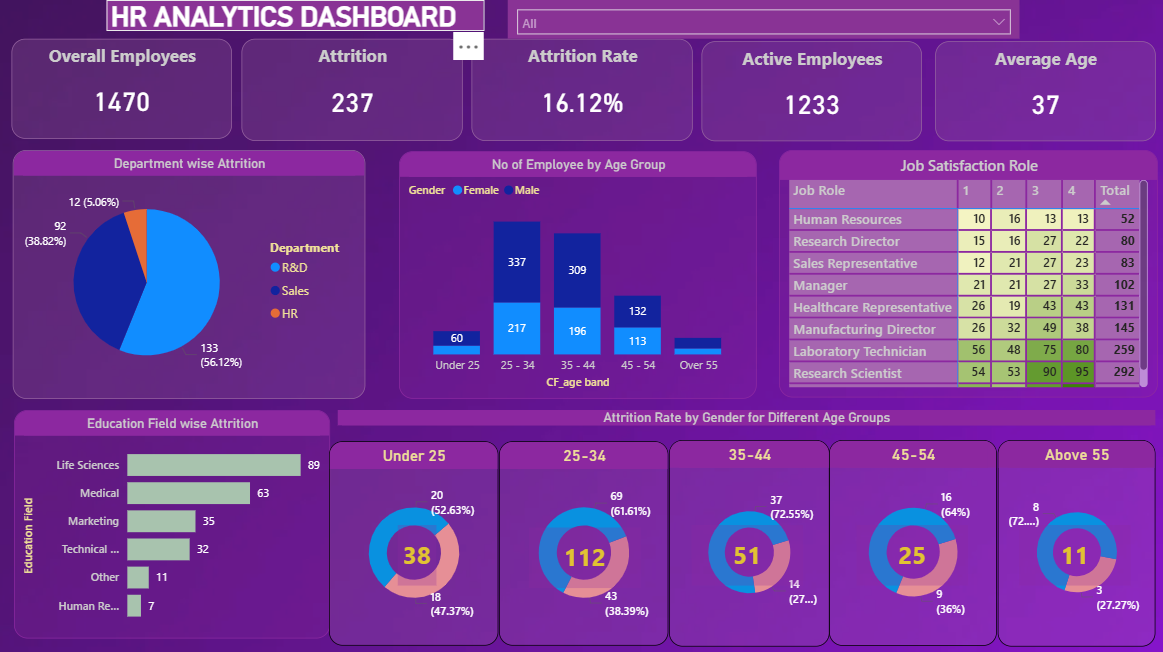

The dashboard page shown, as its layout file describes it:
{"tool":"powerbi","page":{"name":"Page 1","canvas":[1280,720],"ordinal":0},"visuals":[{"type":"card","title":"Overall Employees","fields":{"Values":["Sum(HR data.Employee Count)"]},"box":[13.3,42.2,241.3,109.8],"z":0},{"type":"card","title":"Attrition","fields":{"Values":["Sum(HR data.Attrition Column)"]},"box":[265.4,42.2,242.5,112.2],"z":1},{"type":"card","title":"Attrition Rate","fields":{"Values":["HR data.Attrition Rate"]},"box":[517.6,42.2,242.5,112.2],"z":2},{"type":"card","title":"Active Employees","fields":{"Values":["HR data.Active Employees"]},"box":[769.7,44.6,241.3,109.8],"z":3},{"type":"card","title":"Average Age","fields":{"Values":["Avg(HR data.Age)"]},"box":[1026.7,44.6,241.3,109.8],"z":4},{"type":"pieChart","title":"Department wise Attrition","fields":{"Category":["HR data.Department"],"Y":["Sum(HR data.Attrition Count)"]},"box":[15.7,164.1,386.1,272.7],"z":5},{"type":"columnChart","title":"No of Employee by Age Group","fields":{"Category":["HR data.CF_age band"],"Y":["Sum(HR data.Employee Count)"],"Series":["HR data.Gender"]},"box":[437.9,165.3,392.1,271.4],"z":6},{"type":"pivotTable","title":"Job Satisfaction Role","fields":{"Rows":["HR data.Job Role"],"Columns":["HR data.Job Satisfaction"],"Values":["Sum(HR data.Employee Count)"]},"box":[854.6,165.1,415.3,271.5],"z":7},{"type":"barChart","title":"Education Field wise Attrition","fields":{"Category":["HR data.Education Field"],"Y":["Sum(HR data.Attrition Count)"]},"box":[16,449.9,346.1,250.3],"z":8},{"type":"donutChart","title":"Under 25","fields":{"Category":["HR data.Gender"],"Y":["Sum(HR data.Attrition Count)"],"Series":["HR data.CF_age band"]},"box":[361.9,483.8,185.8,224.4],"z":9},{"type":"textbox","title":"Attrition Rate by Gender for Different Age Groups","box":[371.6,448.8,896.4,16.9],"z":10},{"type":"donutChart","title":"25-34","fields":{"Category":["HR data.Gender"],"Y":["Sum(HR data.Attrition Count)"],"Series":["HR data.CF_age band"]},"box":[547.7,483.8,185.8,224.4],"z":11},{"type":"donutChart","title":"35-44","fields":{"Category":["HR data.Gender"],"Y":["Sum(HR data.Attrition Count)"],"Series":["HR data.CF_age band"]},"box":[734.8,481.9,175.7,226.3],"z":12},{"type":"donutChart","title":"45-54","fields":{"Category":["HR data.Gender"],"Y":["Sum(HR data.Attrition Count)"],"Series":["HR data.CF_age band"]},"box":[909.5,482.7,184.1,226],"z":13},{"type":"donutChart","title":"Above 55","fields":{"Category":["HR data.Gender"],"Y":["Sum(HR data.Attrition Count)"],"Series":["HR data.CF_age band"]},"box":[1094.2,481.9,173,226.3],"z":14},{"type":"card","fields":{"Values":["Sum(HR data.Attrition Count)"]},"box":[436.6,575,42.6,66.6],"z":15},{"type":"card","fields":{"Values":["Sum(HR data.Attrition Count)"]},"box":[580.4,577.7,122.5,66.6],"z":16},{"type":"card","fields":{"Values":["Sum(HR data.Attrition Count)"]},"box":[758.7,575,122.5,66.6],"z":17},{"type":"card","fields":{"Values":["Sum(HR data.Attrition Count)"]},"box":[939.8,575,122.5,66.6],"z":18},{"type":"card","fields":{"Values":["Sum(HR data.Attrition Count)"]},"box":[1118.1,575,122.5,66.6],"z":19},{"type":"textbox","title":"HR ANALYTICS DASHBOARD","box":[15.7,0,400.5,42.2],"z":20},{"type":"slicer","fields":{"Values":["HR data.Education"]},"box":[457.9,0,569.7,42.6],"z":21}]}

Visuals, with their boxes in screenshot pixels (x1, y1, x2, y2), scaled from the page's 1280x720 canvas onto the 1163x652 screenshot:
"Overall Employees" card: select_region(12, 38, 231, 138)
"Attrition" card: select_region(241, 38, 461, 140)
"Attrition Rate" card: select_region(470, 38, 691, 140)
"Active Employees" card: select_region(699, 40, 919, 140)
"Average Age" card: select_region(933, 40, 1152, 140)
"Department wise Attrition" pieChart: select_region(14, 149, 365, 396)
"No of Employee by Age Group" columnChart: select_region(398, 150, 754, 395)
"Job Satisfaction Role" pivotTable: select_region(776, 150, 1154, 395)
"Education Field wise Attrition" barChart: select_region(15, 407, 329, 634)
"Under 25" donutChart: select_region(329, 438, 498, 641)
"Attrition Rate by Gender for Different Age Groups" textbox: select_region(338, 406, 1152, 422)
"25-34" donutChart: select_region(498, 438, 666, 641)
"35-44" donutChart: select_region(668, 436, 827, 641)
"45-54" donutChart: select_region(826, 437, 994, 642)
"Above 55" donutChart: select_region(994, 436, 1151, 641)
card - Sum(HR data.Attrition Count): select_region(397, 521, 435, 581)
card - Sum(HR data.Attrition Count): select_region(527, 523, 639, 583)
card - Sum(HR data.Attrition Count): select_region(689, 521, 801, 581)
card - Sum(HR data.Attrition Count): select_region(854, 521, 965, 581)
card - Sum(HR data.Attrition Count): select_region(1016, 521, 1127, 581)
"HR ANALYTICS DASHBOARD" textbox: select_region(14, 0, 378, 38)
slicer - HR data.Education: select_region(416, 0, 934, 39)
